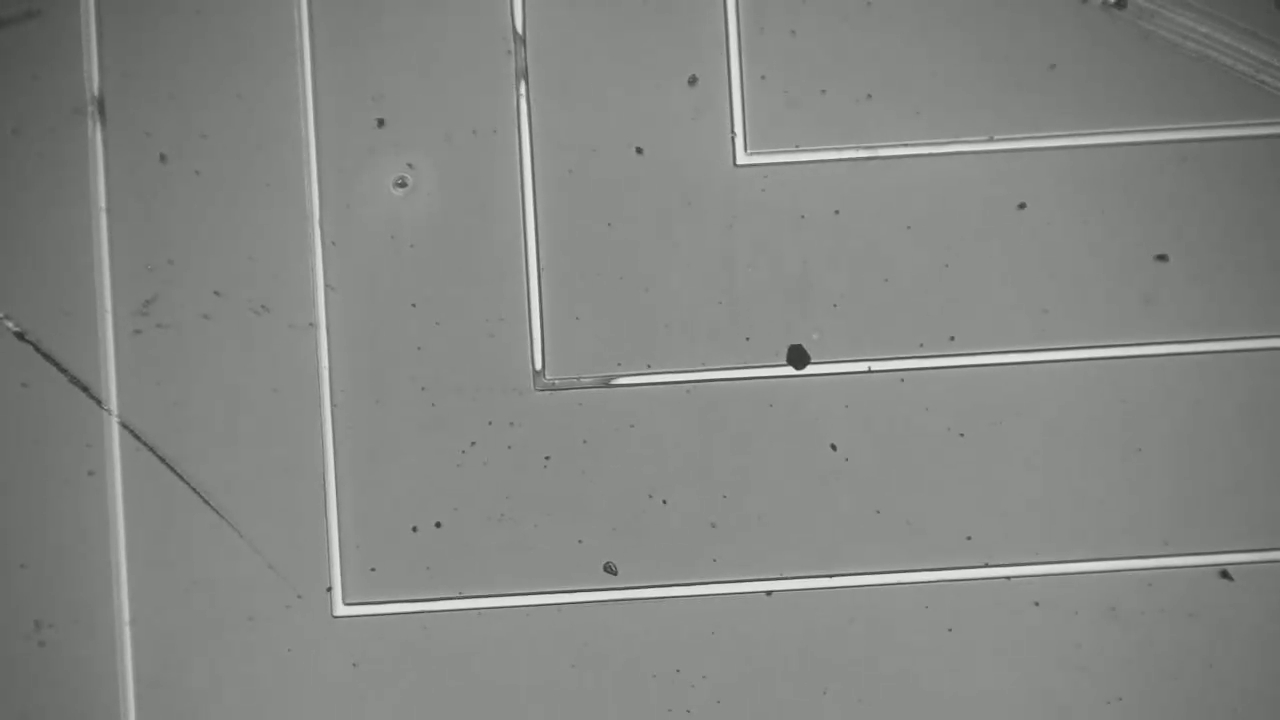edge_bite: (726, 126, 753, 143)
gray_line: (515, 369, 629, 396), (503, 17, 535, 95), (80, 81, 114, 148), (526, 354, 553, 402)
scratch: (1, 241, 312, 606), (1103, 6, 1280, 101)
stains_enbedded: (777, 335, 821, 387)
